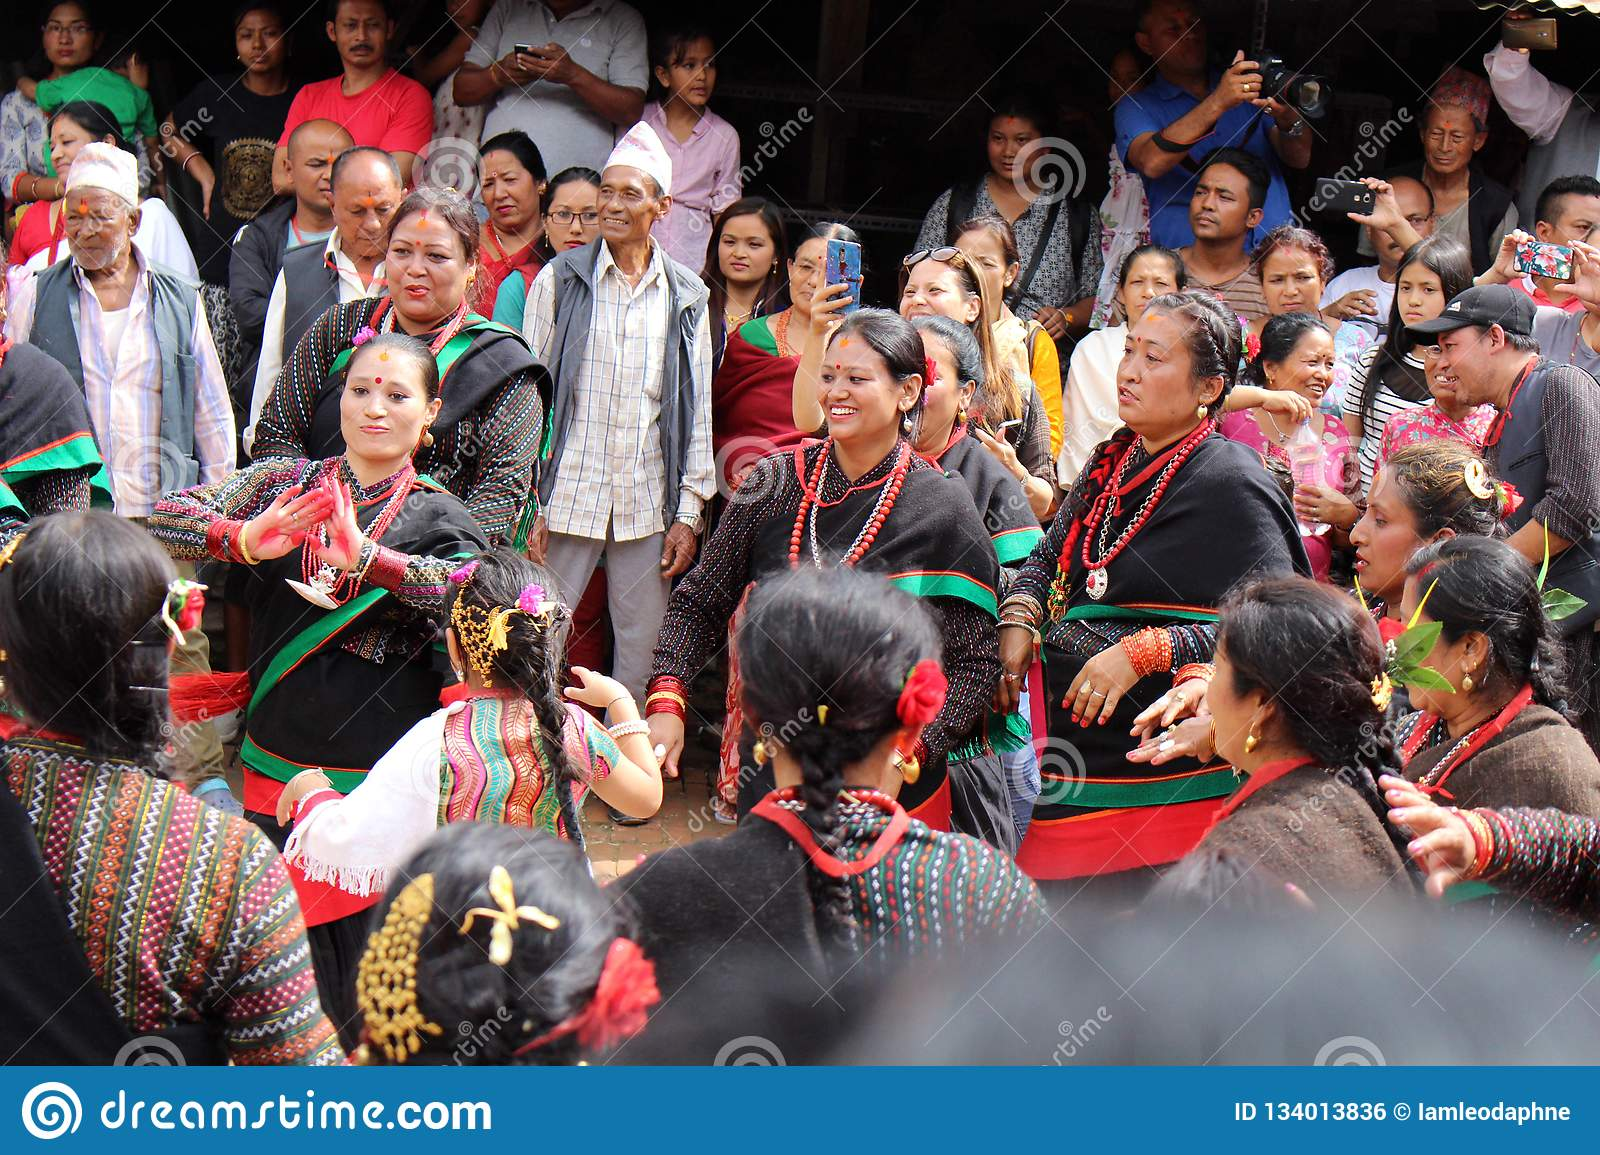human: (142, 328, 501, 1061), (635, 297, 1070, 865), (989, 286, 1339, 878), (235, 177, 561, 653), (505, 112, 724, 801), (1, 139, 252, 602)
